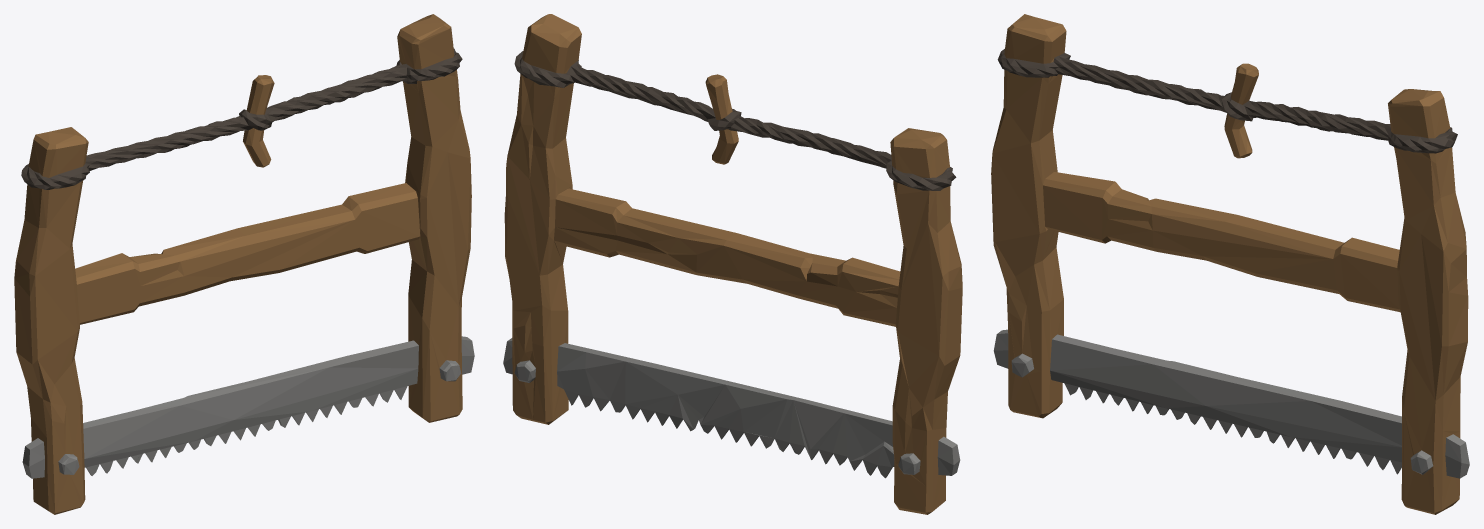
Rendered from WoodenFrameSaw.fbx.
3 renders of one model, left to right at view 1: azimuth 30°, elevation 25°; view 2: azimuth 150°, elevation 25°; view 3: azimuth 330°, elevation 25°, orthographic. The views are drawn at different scales.
Parts seen in each view (by area): view 1: WoodenFrameSaw; view 2: WoodenFrameSaw; view 3: WoodenFrameSaw.
Part boxes in pixels (x1,y1,x2,y2): WoodenFrameSaw: [14, 14, 474, 514]; WoodenFrameSaw: [503, 14, 962, 514]; WoodenFrameSaw: [991, 14, 1469, 514].
Bounding box in the file's own units: 0.8503 × 0.0994 × 0.7162.
